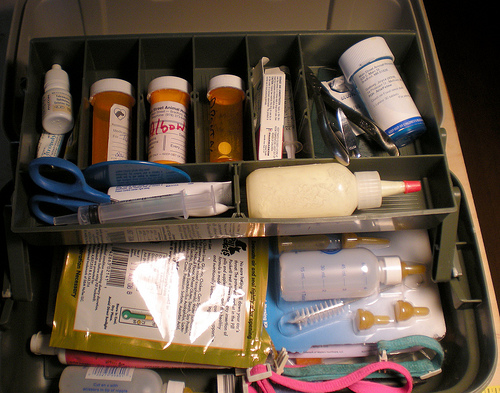pill bottle: (89, 74, 139, 167), (203, 71, 248, 169), (145, 73, 190, 167)
